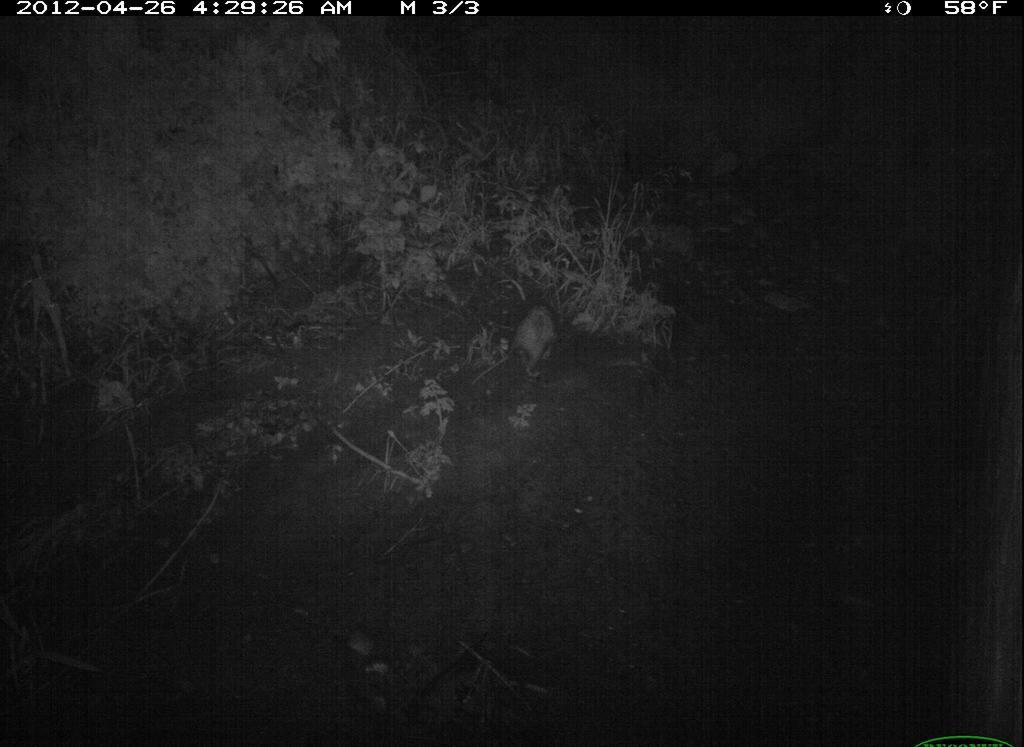opossum: (500, 295, 601, 386)
